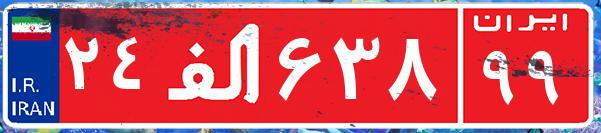2: (57, 26, 110, 107)
3: (330, 28, 385, 110)
4: (110, 28, 158, 105)
6: (273, 28, 330, 110)
8: (385, 28, 445, 110)
9: (475, 38, 525, 113), (525, 38, 570, 115)
الف: (158, 15, 273, 115)
